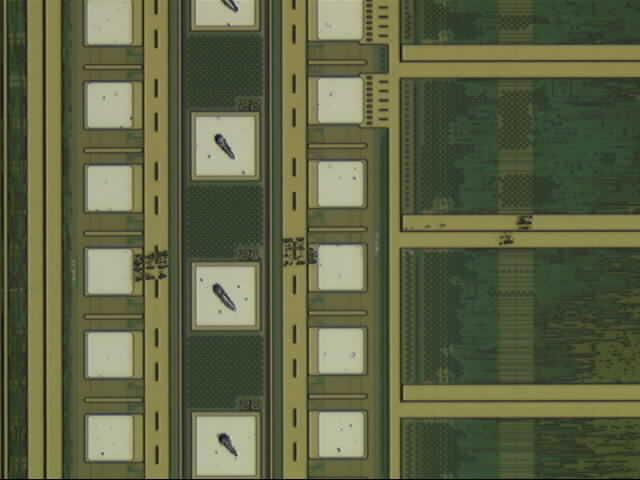SCRATCH: (120, 208, 545, 288)
